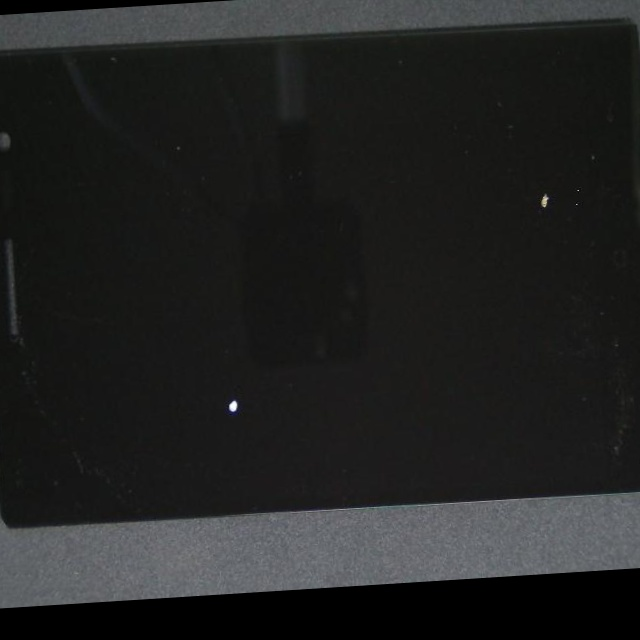stain: (224, 99, 640, 381), (102, 161, 362, 600)
